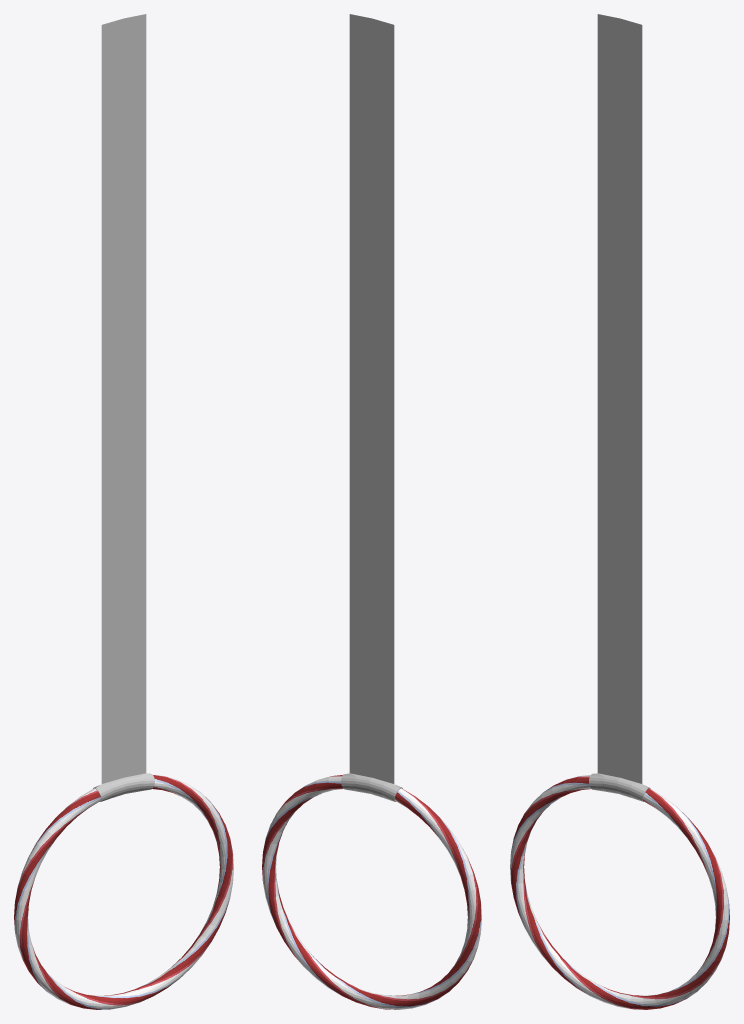
Rendered from ring_and_cloth.fbx.
The picture shows the model from 3 angles, left to right: view 1: azimuth 30°, elevation 25°; view 2: azimuth 150°, elevation 25°; view 3: azimuth 330°, elevation 25°; orthographic projection.
Parts seen in each view (by area): view 1: cloth, ring; view 2: cloth, ring; view 3: cloth, ring.
Boxes of the visible parts, bbox=[...] form: cloth: bbox=[93, 14, 154, 801]; ring: bbox=[14, 775, 233, 1009]; cloth: bbox=[341, 14, 402, 801]; ring: bbox=[262, 775, 481, 1009]; cloth: bbox=[589, 14, 650, 801]; ring: bbox=[510, 775, 729, 1009].
Bounding box in the file's own units: 212 × 917 × 13.47.
